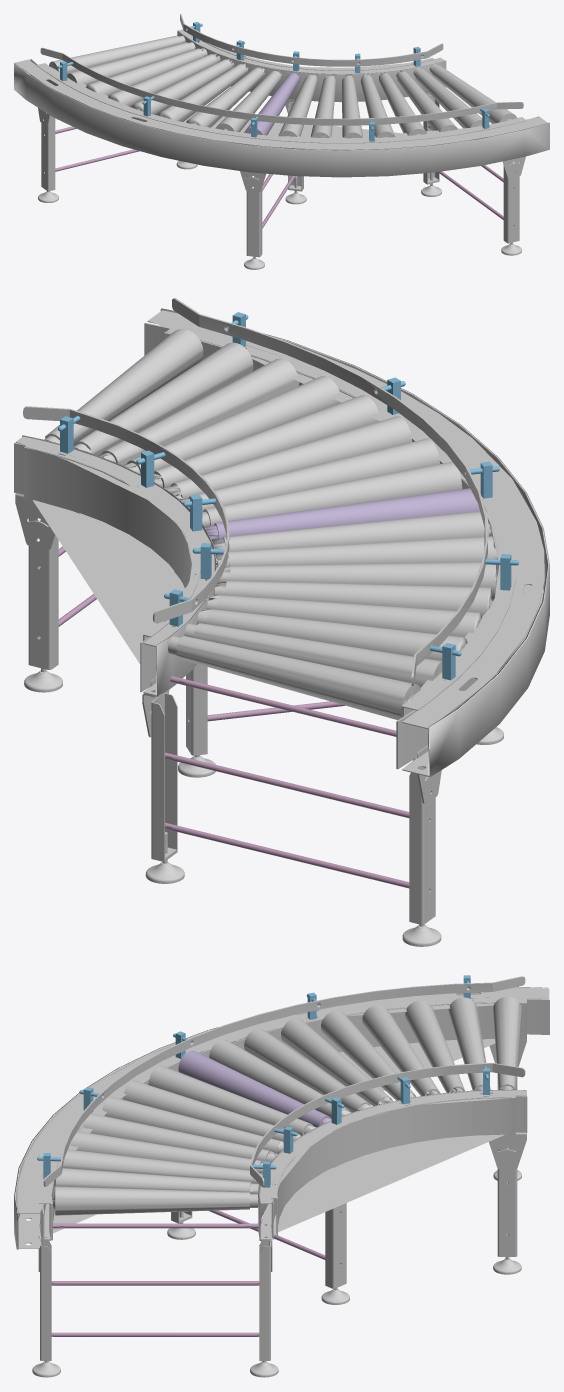
Rendered from Roller conveyor 90 degrees.fbx.
The picture shows the model from 3 angles, top to bottom: view 1: azimuth 30°, elevation 25°; view 2: azimuth 150°, elevation 25°; view 3: azimuth 270°, elevation 25°; orthographic projection. The views are drawn at different scales.
Visible parts, largest first — view 1: Side.001, Rollers, Guard.001, Side, Guard, Leg, Leg.002, Leg.003, Leg.001, Bars, Bars.001; view 2: Rollers, Side.001, Side, Guard.001, Guard, Leg, Leg.004, Bars.001, Leg.003, Leg.001, Bars.002; view 3: Rollers, Side, Side.001, Guard.001, Guard, Leg, Bars, Leg.004, Leg.001, Leg.002, Bars.002.
Part boxes in pixels (box(x1,y1,x2,y2)): Side.001: box(14, 59, 549, 177); Rollers: box(49, 35, 516, 138); Guard.001: box(40, 47, 523, 141); Side: box(177, 29, 446, 102); Guard: box(180, 14, 443, 73); Leg: box(421, 93, 525, 255); Leg.002: box(240, 171, 266, 269); Leg.003: box(38, 108, 58, 202); Leg.001: box(285, 98, 306, 204); Bars: box(428, 125, 514, 226); Bars.001: box(44, 126, 139, 172); Rollers: box(44, 329, 497, 720); Side.001: box(144, 308, 549, 776); Side: box(14, 435, 217, 696); Guard.001: box(172, 298, 518, 685); Guard: box(23, 406, 229, 626); Leg: box(15, 493, 62, 692); Leg.004: box(142, 678, 184, 883); Bars.001: box(165, 676, 429, 890); Leg.003: box(402, 759, 441, 946); Leg.001: box(178, 579, 215, 777); Bars.002: box(207, 701, 345, 721); Rollers: box(52, 996, 521, 1215); Side: box(258, 1089, 527, 1240); Side.001: box(14, 986, 549, 1249); Guard.001: box(37, 975, 525, 1186); Guard: box(250, 1063, 525, 1187); Leg: box(32, 1225, 278, 1377); Bars: box(51, 1223, 259, 1336); Leg.004: box(489, 1132, 526, 1274); Leg.001: box(321, 1203, 349, 1304); Leg.002: box(167, 1211, 195, 1239); Bars.002: box(208, 1210, 340, 1264).
Size of the model in its own units: 166 by 67.99 by 165.
